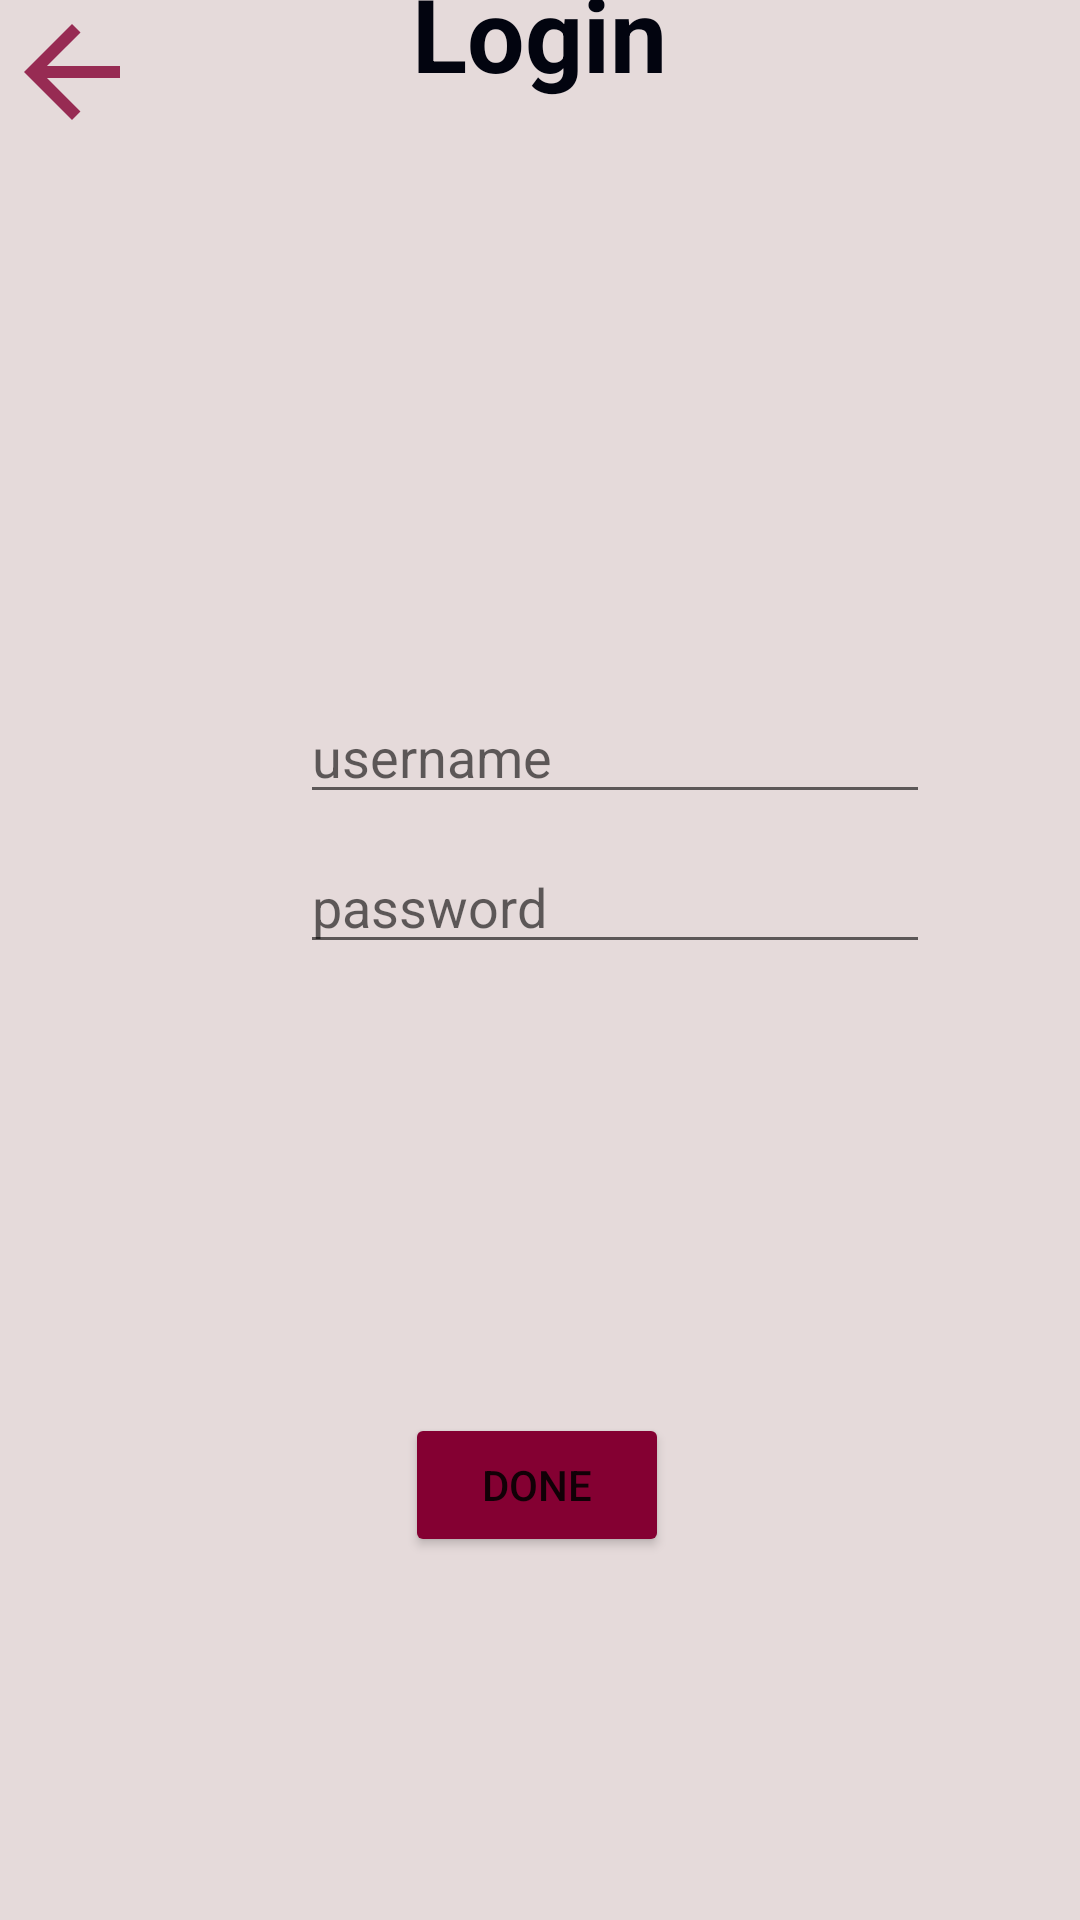

Named icons in this screenshot (1080*1920) and their bounding boxes, (x1, y1, x2, y2):
back arrow: (24, 24, 120, 120)
